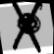not correct: (5, 0, 49, 54)
